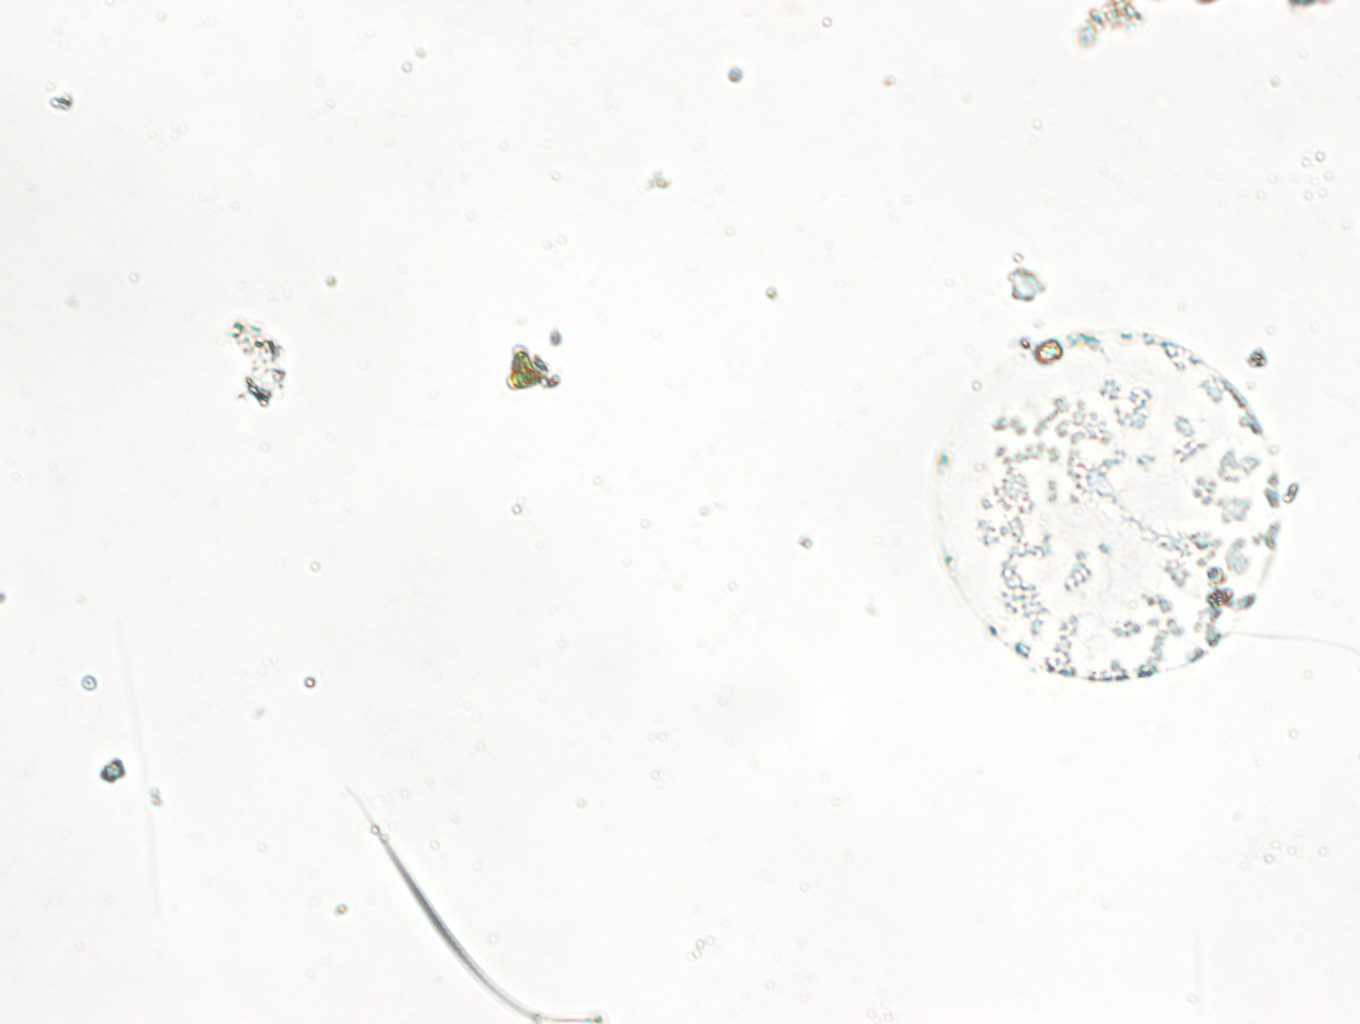coscinodiscus: (925, 322, 1292, 691)
